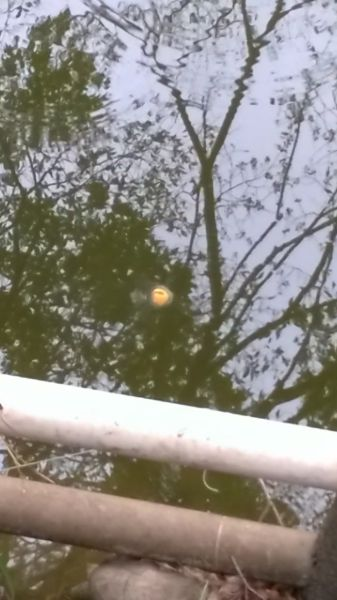eggs: (147, 284, 174, 308)
